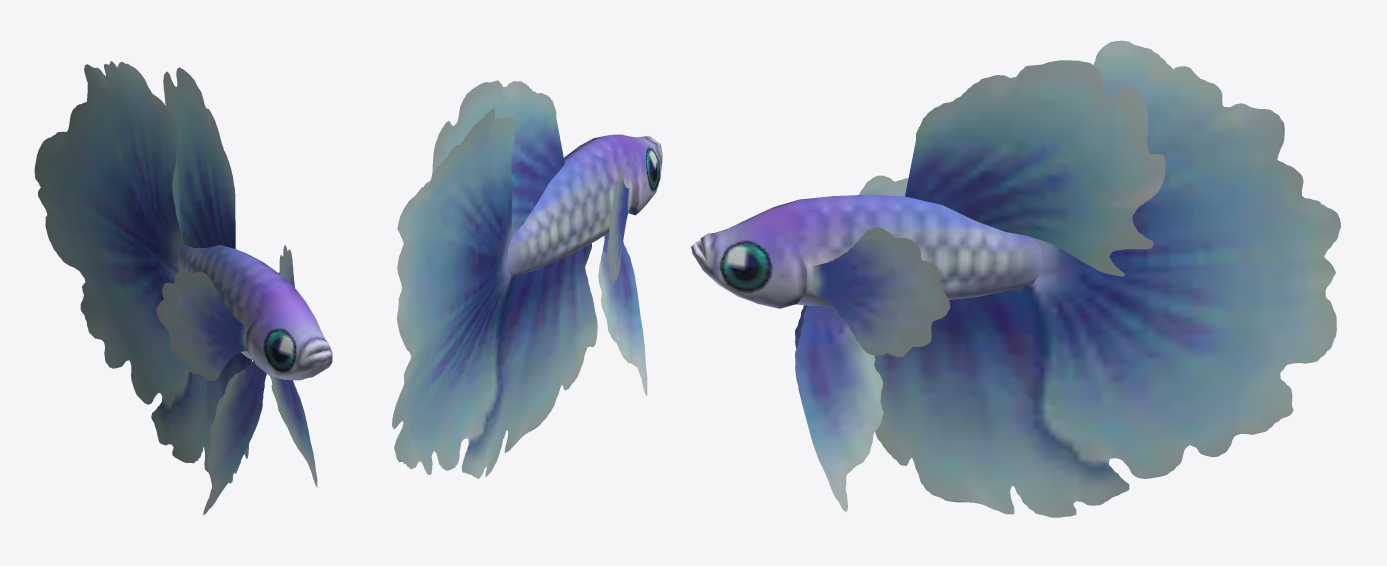
The model's file is betta.glb.
3 renders of one model, left to right at view 1: azimuth 30°, elevation 25°; view 2: azimuth 150°, elevation 25°; view 3: azimuth 270°, elevation 25°, orthographic. The views are drawn at different scales.
Bounding box in the file's own units: 1.48 × 4.63 × 5.5.
Materials: 1 (1 with a texture image).
